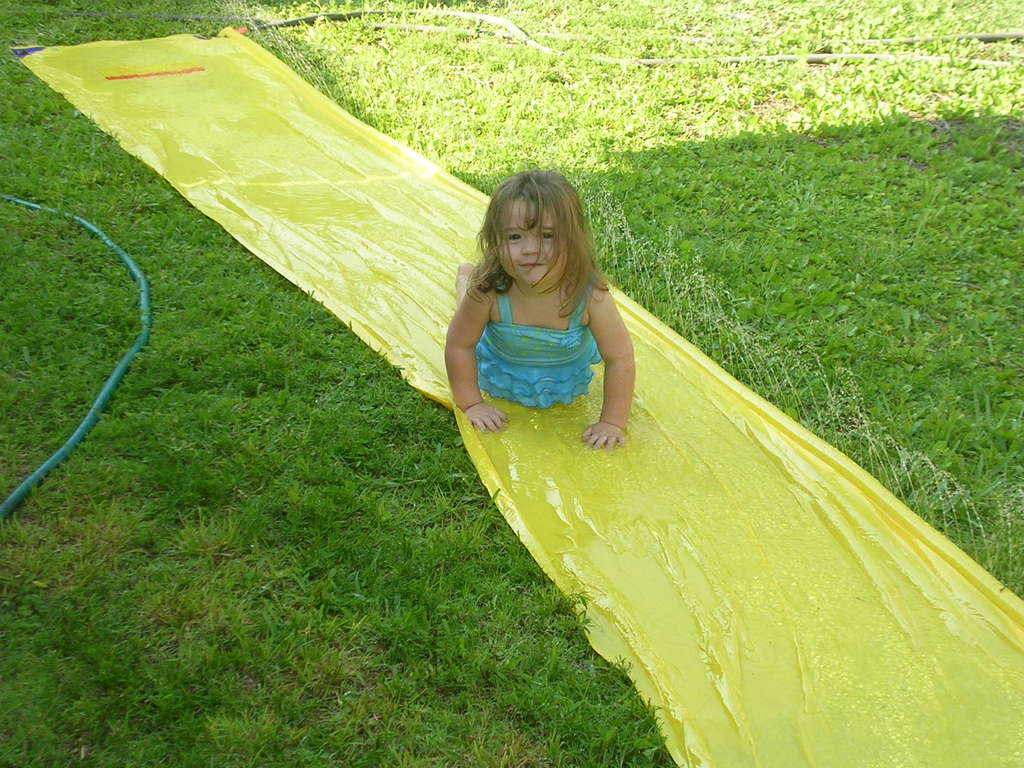person: (442, 168, 637, 450)
